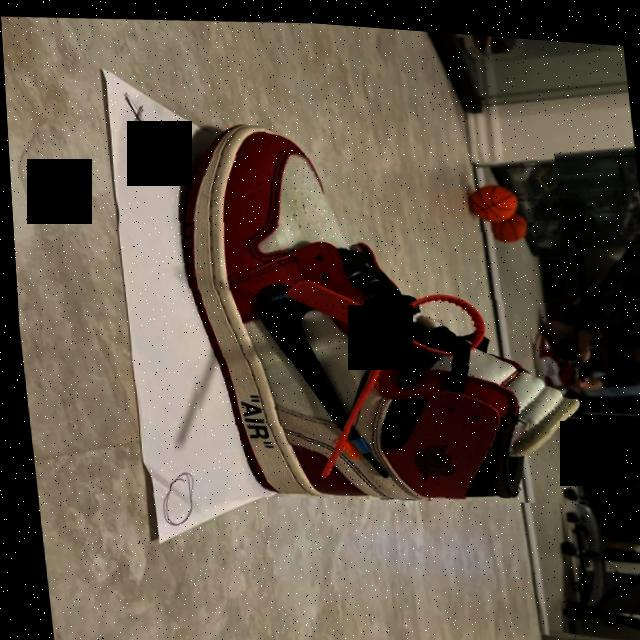shoe: (161, 97, 588, 516)
